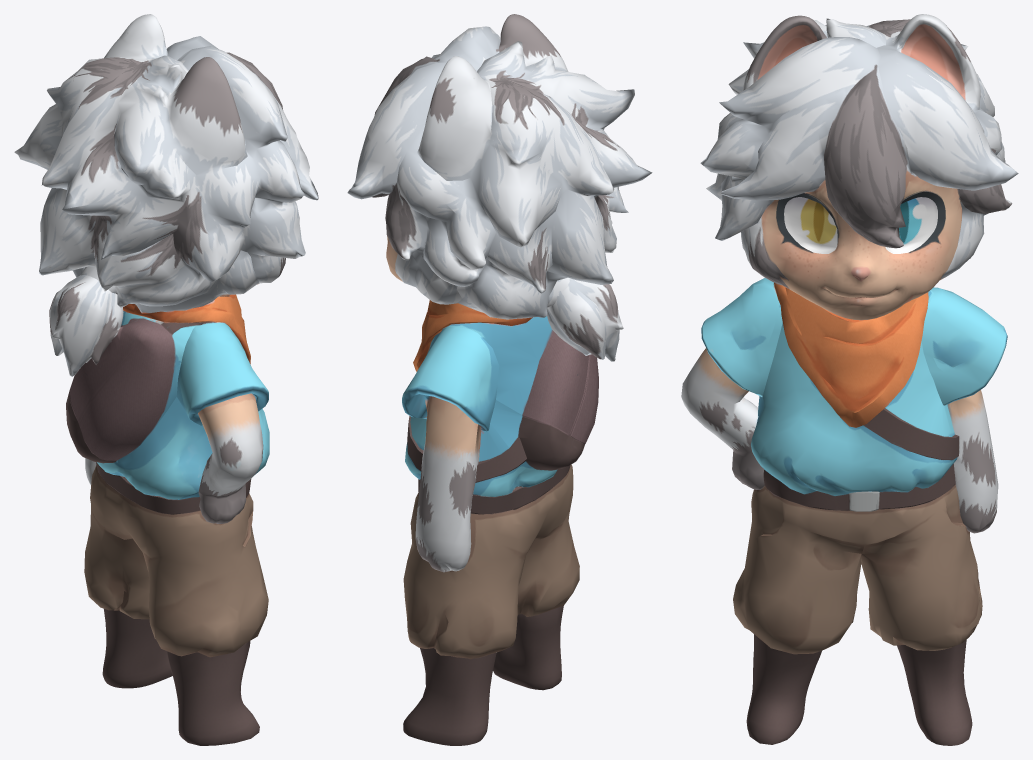
The model's file is cute_character_assignment_-_vann_lux.glb.
3 views of the same model, side by side, from view 1: azimuth 30°, elevation 25°; view 2: azimuth 150°, elevation 25°; view 3: azimuth 270°, elevation 25° (orthographic). The views are drawn at different scales.
Visible parts, largest first — view 1: Vann_retopo; view 2: Vann_retopo; view 3: Vann_retopo, left_eye, right_eye.
Boxes of the visible parts, x1=… form: Vann_retopo: x1=14, y1=14, x2=318, y2=745; Vann_retopo: x1=347, y1=14, x2=652, y2=745; Vann_retopo: x1=681, y1=14, x2=1018, y2=745; left_eye: x1=784, y1=197, x2=837, y2=253; right_eye: x1=885, y1=197, x2=937, y2=253.
Size of the model in its own units: 15.55 by 40.41 by 17.37.
Materials: 3 (3 with a texture image).
